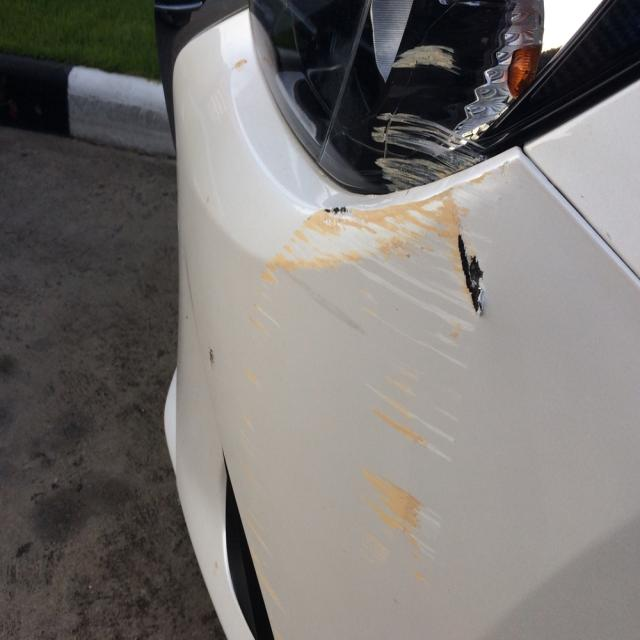scratch: (237, 160, 514, 610), (365, 43, 493, 191)
